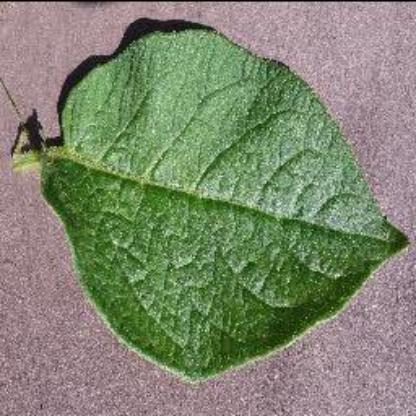Healthy-plant: (12, 23, 416, 383)
